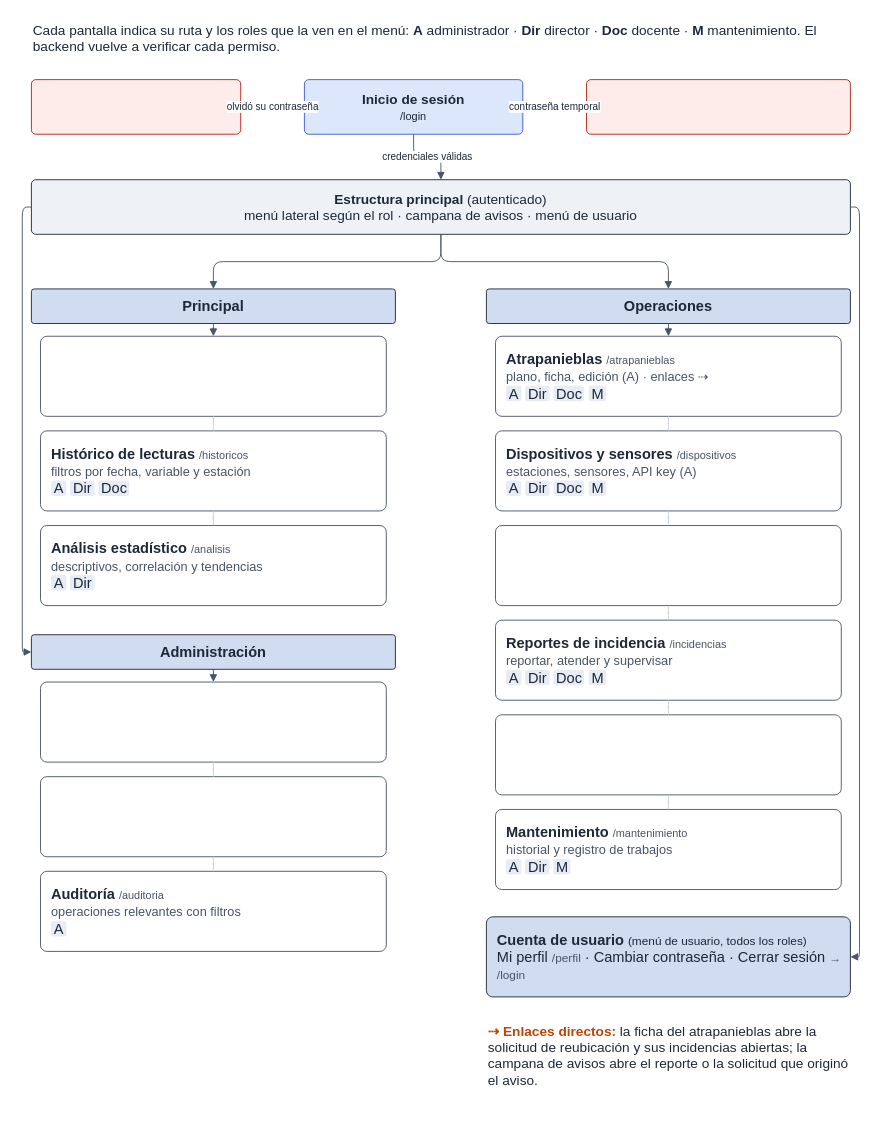
Image size: 883x1132. Some labels were removed from this diagram. Each missing label, with the centre of its shape:
Cambiar contraseña temporal /cambiar-contrasena: the point at 718,106
Inventario IoT /inventario repuestos, periodos y movimientos (A) A Dir M: the point at 668,565
Recuperaciones /recuperaciones aprobar o rechazar solicitudes A: the point at 213,816
Recuperación de cuenta /recuperar-cuenta: the point at 135,106
Resumen general / indicadores, series y exportación A Dir Doc M: the point at 213,375
Reubicaciones /reubicaciones solicitar, atender y supervisar A Dir Doc M: the point at 668,754
Usuarios y permisos /usuarios alta, edición, roles y desactivación A: the point at 213,721
